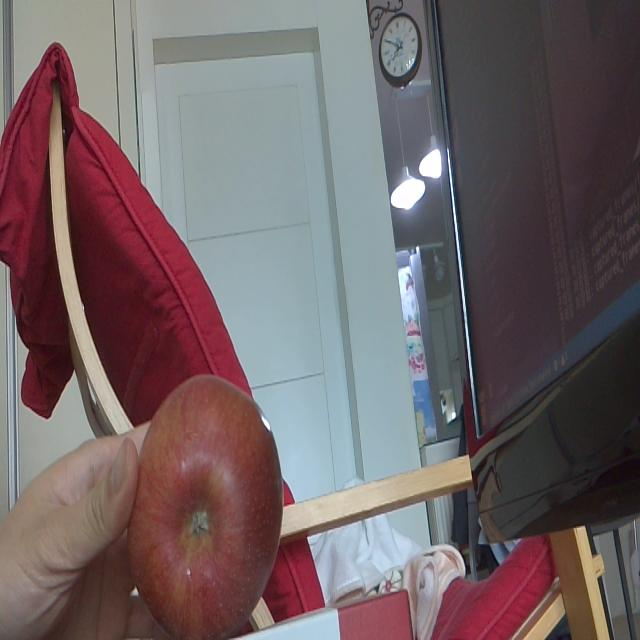apple: (130, 377, 284, 640)
